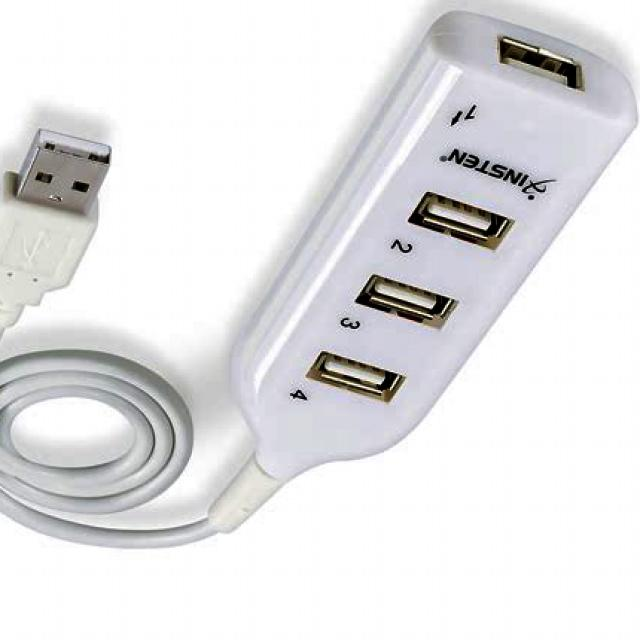usb port: (496, 38, 591, 96), (414, 195, 502, 257), (315, 347, 402, 408), (365, 271, 445, 335)
